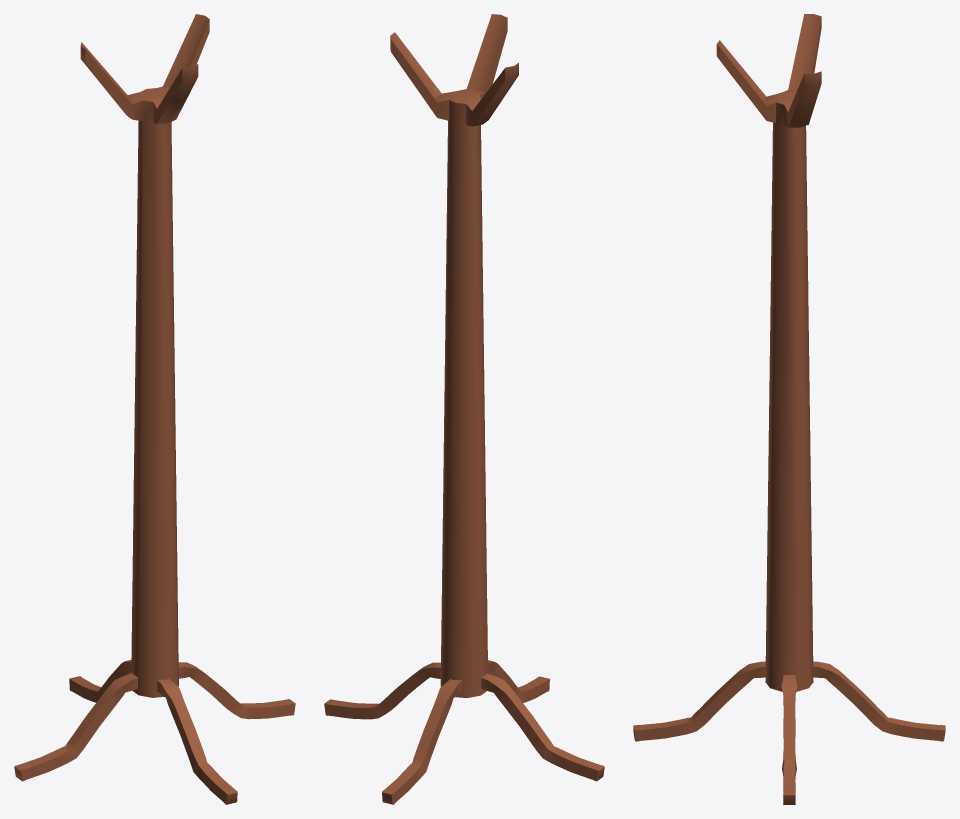
The model's file is Coat hanger.glb.
The picture shows the model from 3 angles, left to right: view 1: azimuth 30°, elevation 25°; view 2: azimuth 150°, elevation 25°; view 3: azimuth 270°, elevation 25°; orthographic projection.
Parts seen in each view (by area): view 1: Cylinder; view 2: Cylinder; view 3: Cylinder.
Part boxes in pixels (box(x1,y1,x2,y2)): Cylinder: box(14, 14, 295, 804); Cylinder: box(324, 14, 604, 804); Cylinder: box(633, 14, 945, 804).
Bounding box in the file's own units: 0.5764 × 1.41 × 0.5745.
1 material, 1 textured.
